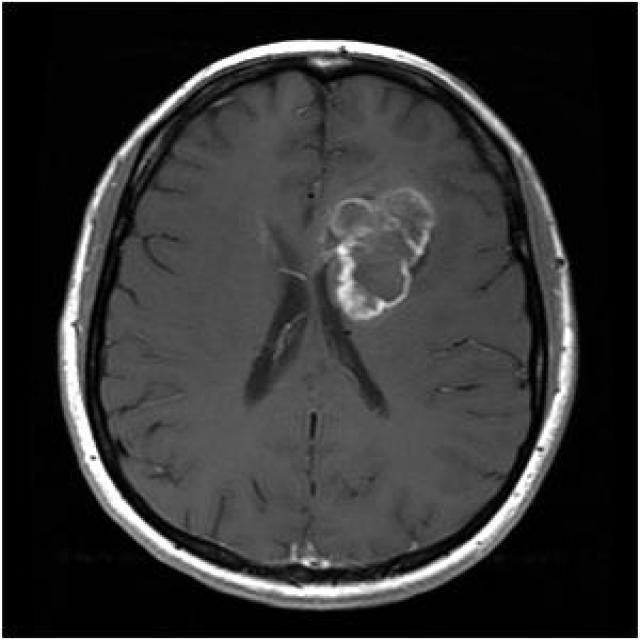brain tumor: (333, 190, 437, 322)
